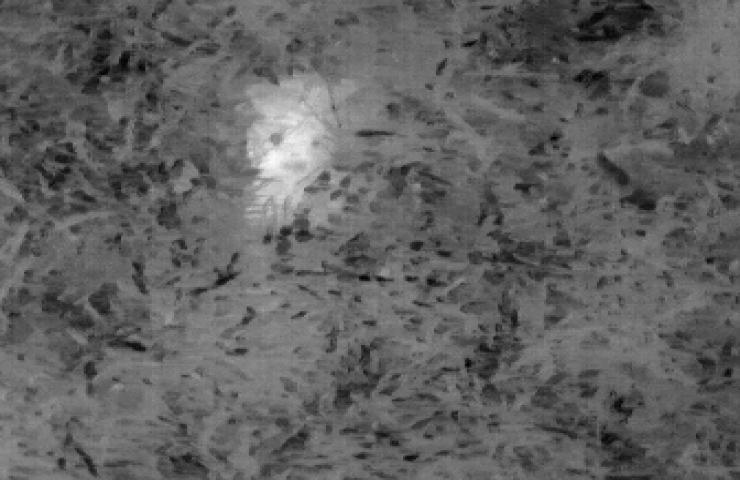landmines: (243, 90, 330, 191)
